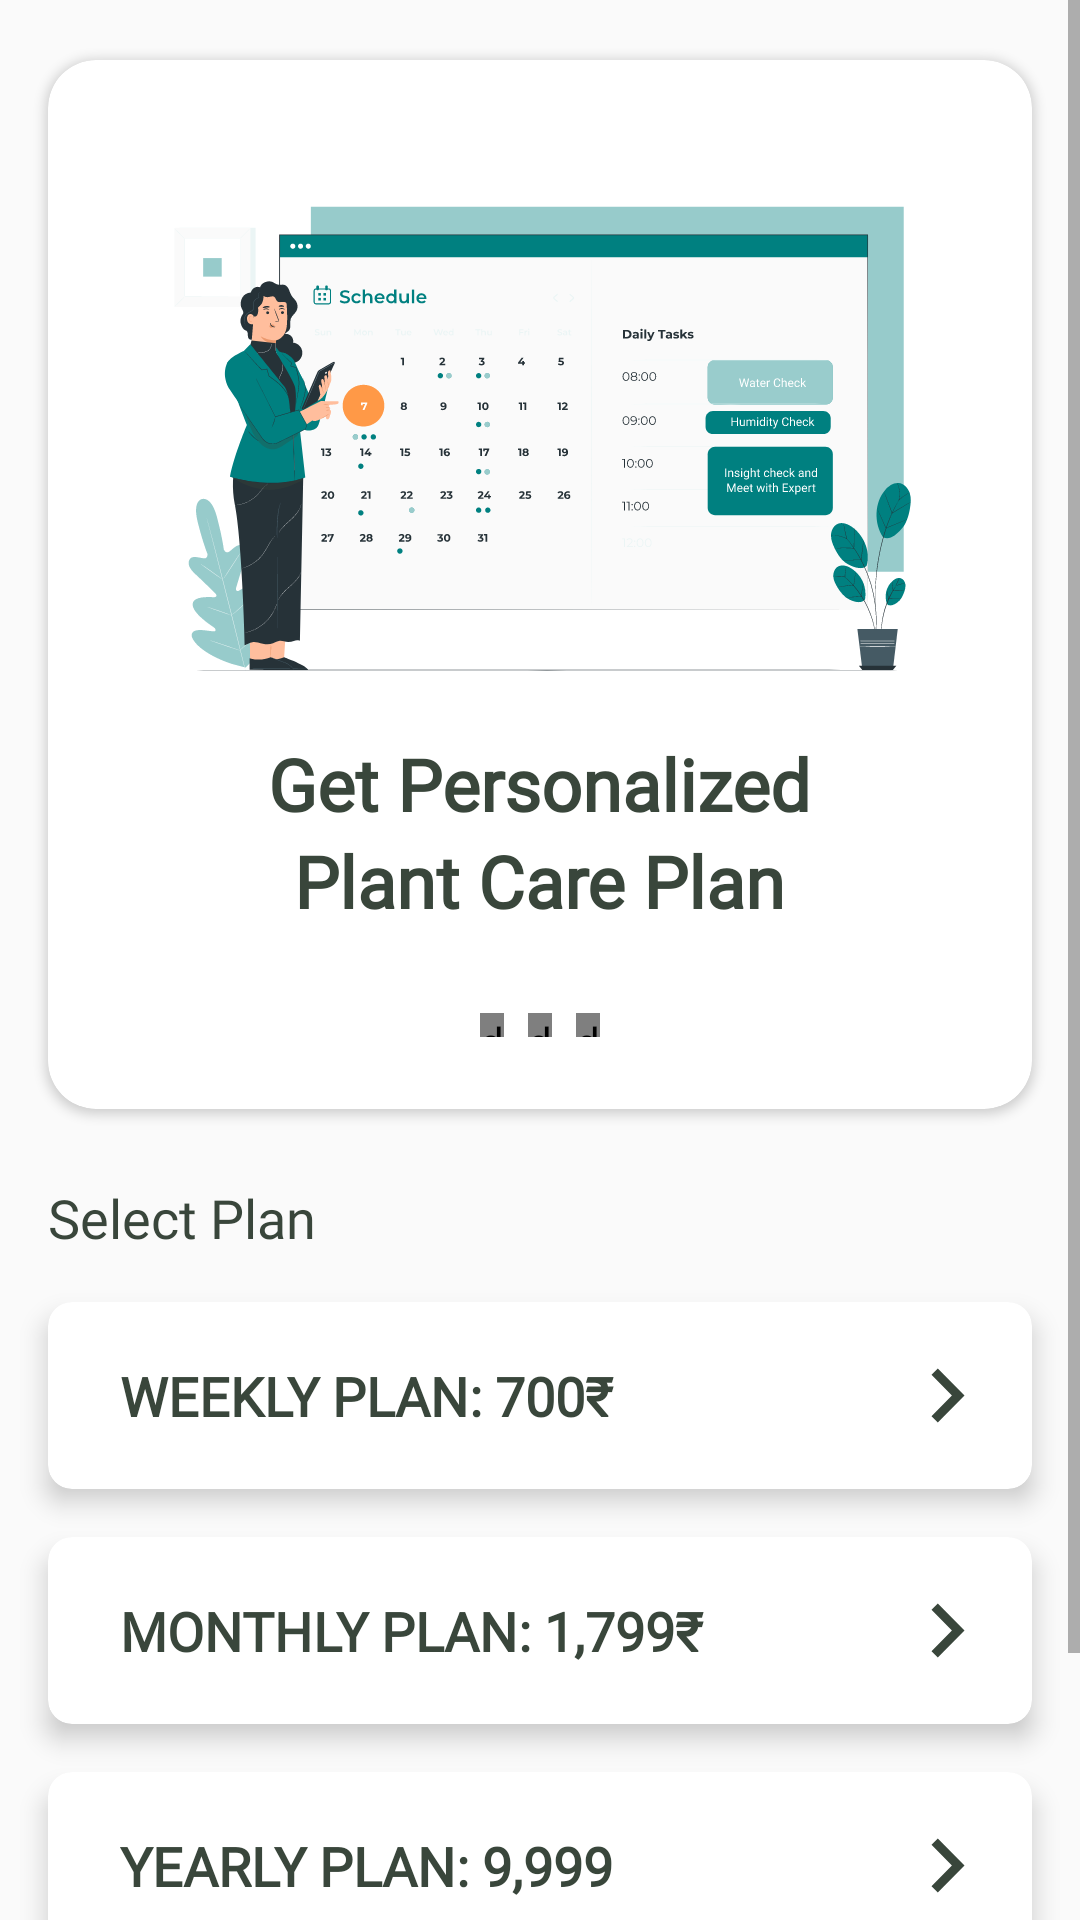

Screen size 1080×1920. Icon name, then its center in pixels as (x,y):
right side arrow: (948,1395), (948,1630), (948,1865)
